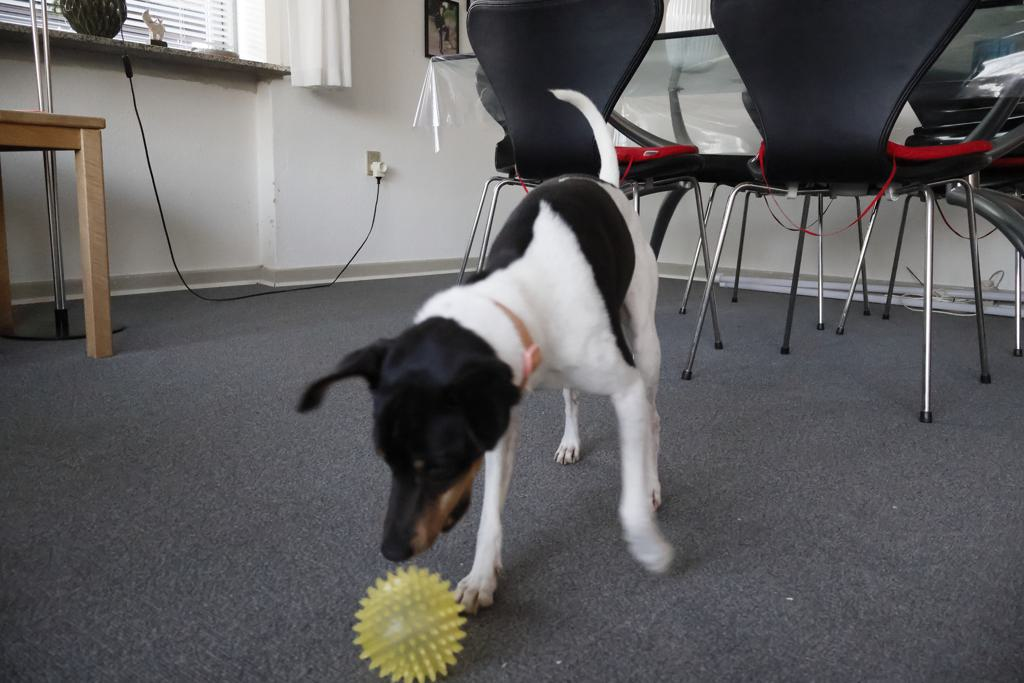Dog: (290, 81, 681, 622)
